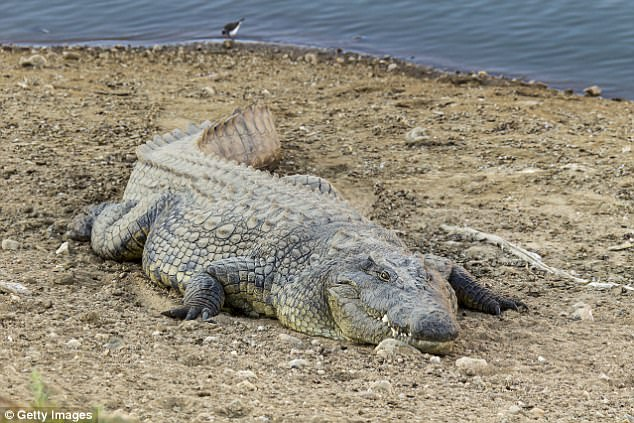Crocodile: (56, 102, 543, 358)
